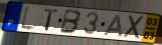3: (83, 11, 100, 36)
A: (102, 14, 124, 38)
B: (59, 9, 83, 35)
L: (19, 5, 37, 33)
T: (43, 8, 60, 32)
X: (123, 14, 147, 40)
